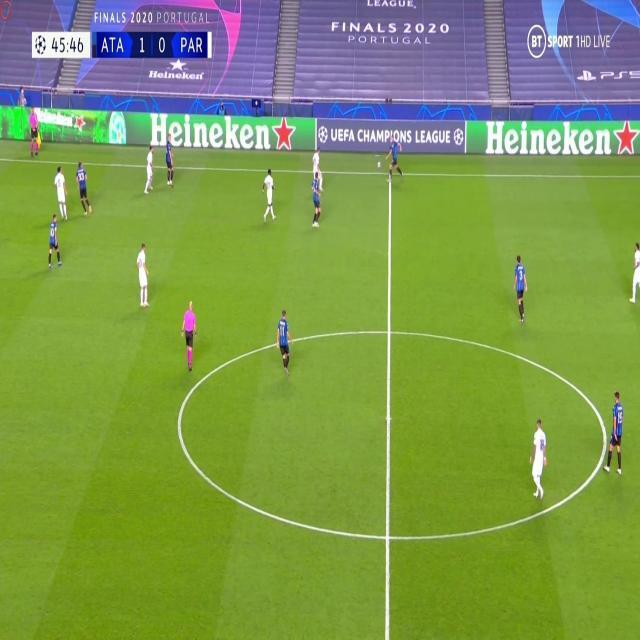ball: (377, 158, 382, 169)
player: (606, 389, 626, 477), (529, 413, 548, 501), (276, 305, 293, 375), (135, 238, 151, 308), (513, 253, 529, 323), (75, 159, 93, 216), (261, 165, 278, 223), (52, 164, 69, 220), (47, 214, 63, 271), (628, 239, 640, 304), (144, 134, 157, 192), (163, 135, 176, 186), (387, 140, 404, 179), (309, 181, 323, 228), (311, 144, 324, 192)
referee: (181, 298, 198, 372), (28, 107, 41, 158)
